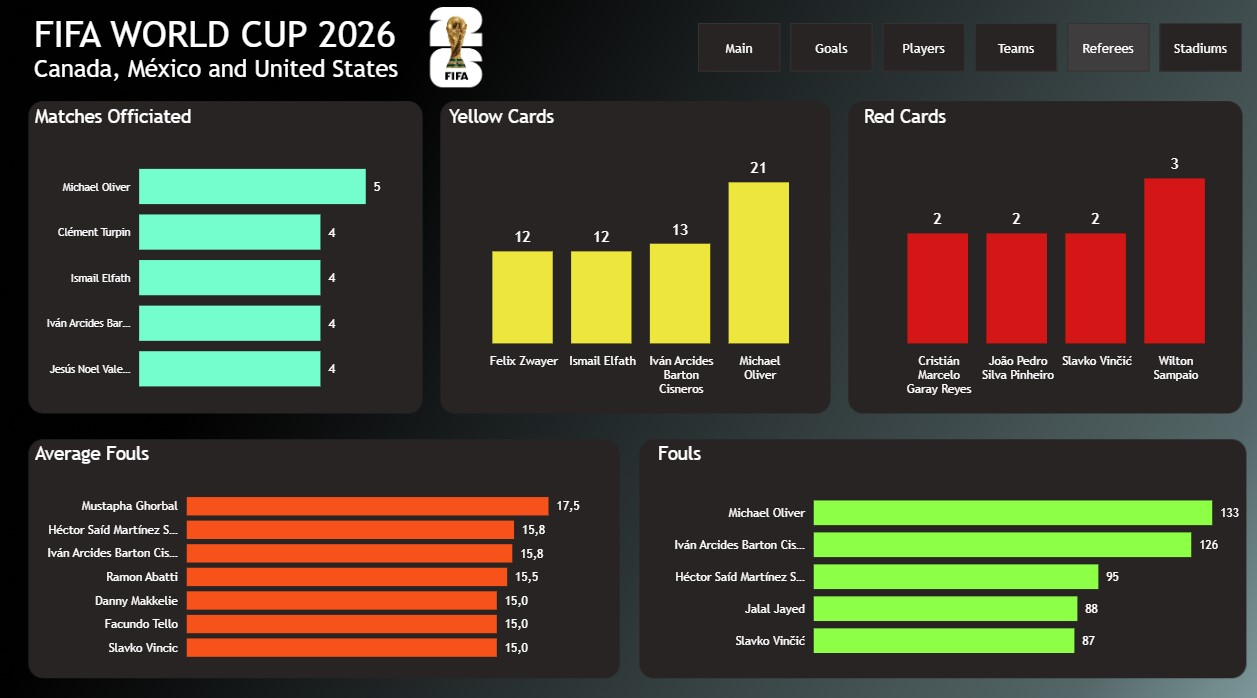

What the dashboard file says about the page in this screenshot:
{"tool":"powerbi","page":{"name":"Referees","canvas":[1280,720],"ordinal":4},"visuals":[{"type":"barChart","title":"Matches Officiated","fields":{"Category":["matches.referee"],"Y":["CountNonNull(matches.match_no)"]},"box":[31.9,110.7,389.1,308.3],"z":0},{"type":"lineStackedColumnComboChart","title":"Red Cards","fields":{"Category":["matches.referee"],"Y":["Sum(match_stats.red_c)"]},"box":[868,110.7,388.1,301.3],"z":1000},{"type":"clusteredColumnChart","title":"Yellow Cards","fields":{"Category":["matches.referee"],"Y":["Sum(match_stats.yellow_c)"]},"box":[449.9,110.7,387.1,301.3],"z":2000},{"type":"barChart","title":"Fouls","fields":{"Category":["matches.referee"],"Y":["Sum(match_stats.fouls)"]},"box":[660.5,450.9,595.6,231.5],"z":3000},{"type":"barChart","title":"Average Fouls","fields":{"Category":["matches.referee"],"Y":["Avg(match_stats.fouls)"]},"box":[31.9,450.9,579.6,231.5],"z":4000},{"type":"image","box":[404.1,12,114.7,80.8],"z":5000},{"type":"textbox","box":[30.9,12,419,93.8],"z":6000},{"type":"pageNavigator","box":[705.3,27.9,550.7,49.9],"z":7000}]}

Visuals, with their boxes in screenshot pixels (x1, y1, x2, y2), scaled from the page's 1280x720 canvas onto the 1257x698 screenshot:
"Matches Officiated" barChart: region(31, 107, 413, 406)
"Red Cards" lineStackedColumnComboChart: region(852, 107, 1234, 399)
"Yellow Cards" clusteredColumnChart: region(442, 107, 822, 399)
"Fouls" barChart: region(649, 437, 1234, 662)
"Average Fouls" barChart: region(31, 437, 601, 662)
image: region(397, 12, 509, 90)
textbox: region(30, 12, 442, 103)
pageNavigator: region(693, 27, 1233, 75)
